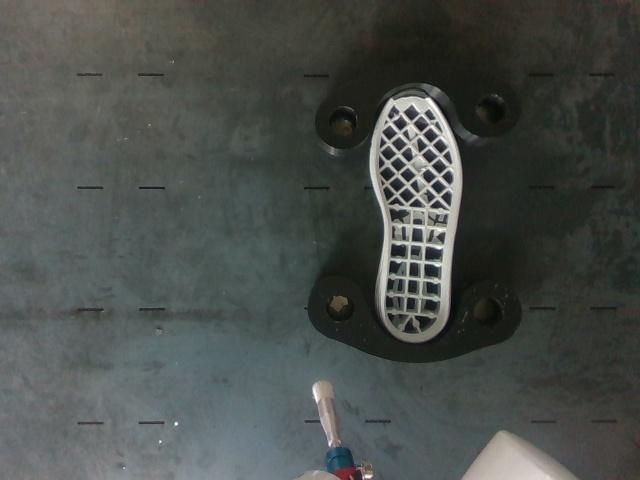shoes: (374, 90, 460, 341)
